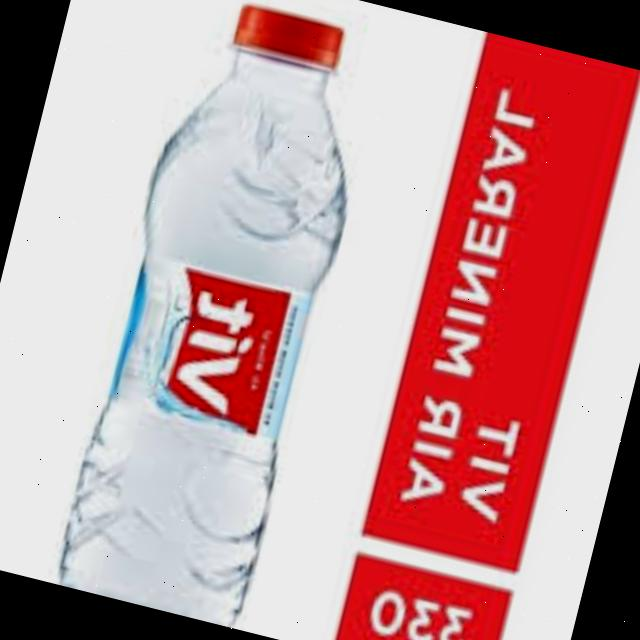trash: (46, 0, 399, 632)
